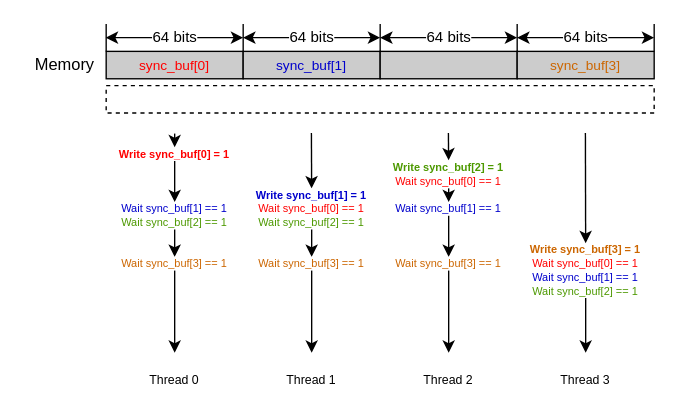
Some shapes in this 690 by 418 pixel diagram are drawn without their labels. The shapes that lost their labels are listed below. From the top down, each one's centre as x and y in pixels, then its label:
At pixel 448 64: "sync_buf[2]".
At pixel 379 98: "Initialize to all 0".
